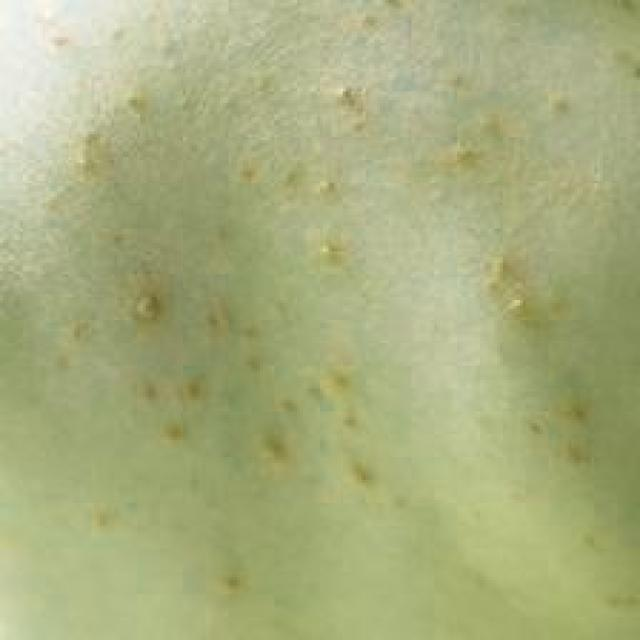others: (3, 0, 640, 621)
